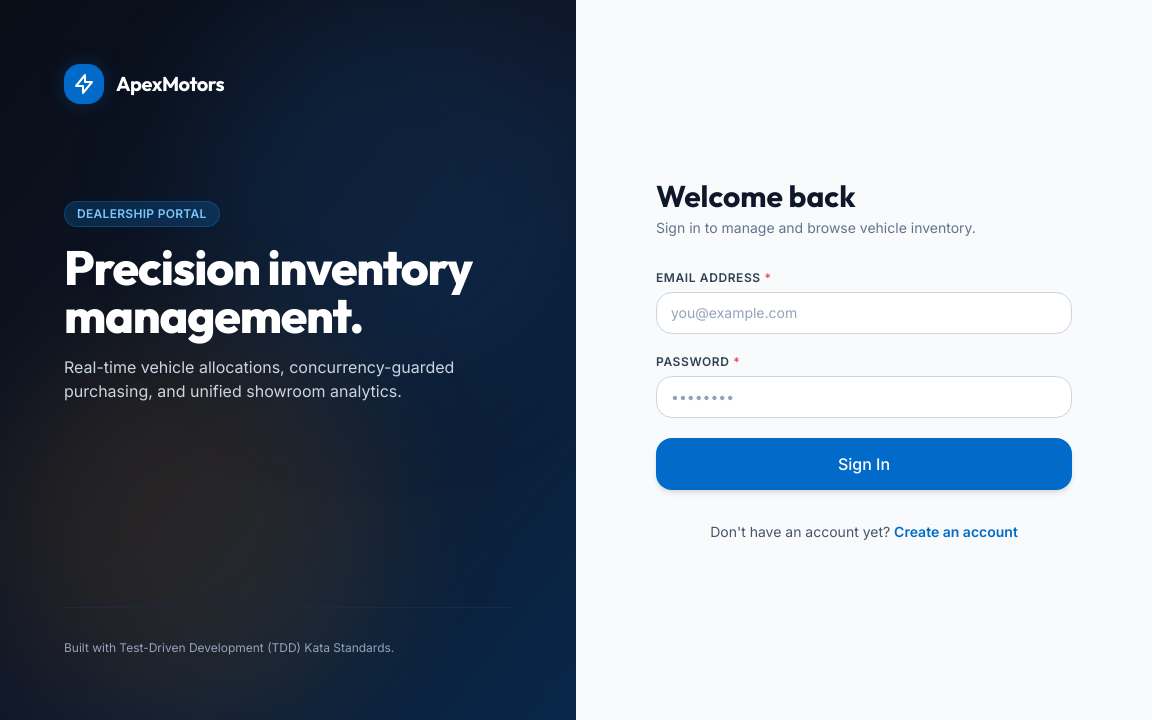
Test case: Auth Pages (Login and Register) › LoginPage › should display client-side validation errors when submitting empty form
Click the button "Sign In" at (864, 464), box 656,438 -> 1072,490
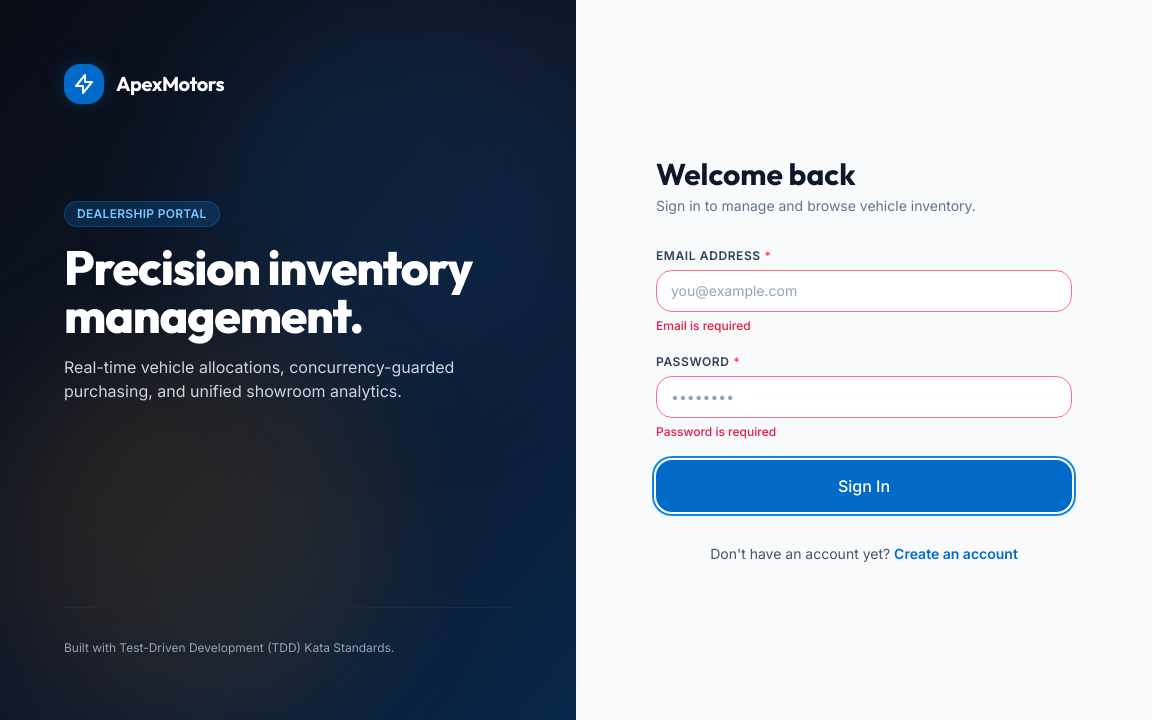
Now the text "Email is required" is shown, box 656,318 -> 751,333
Now the text "Password is required" is shown, box 656,424 -> 776,439
